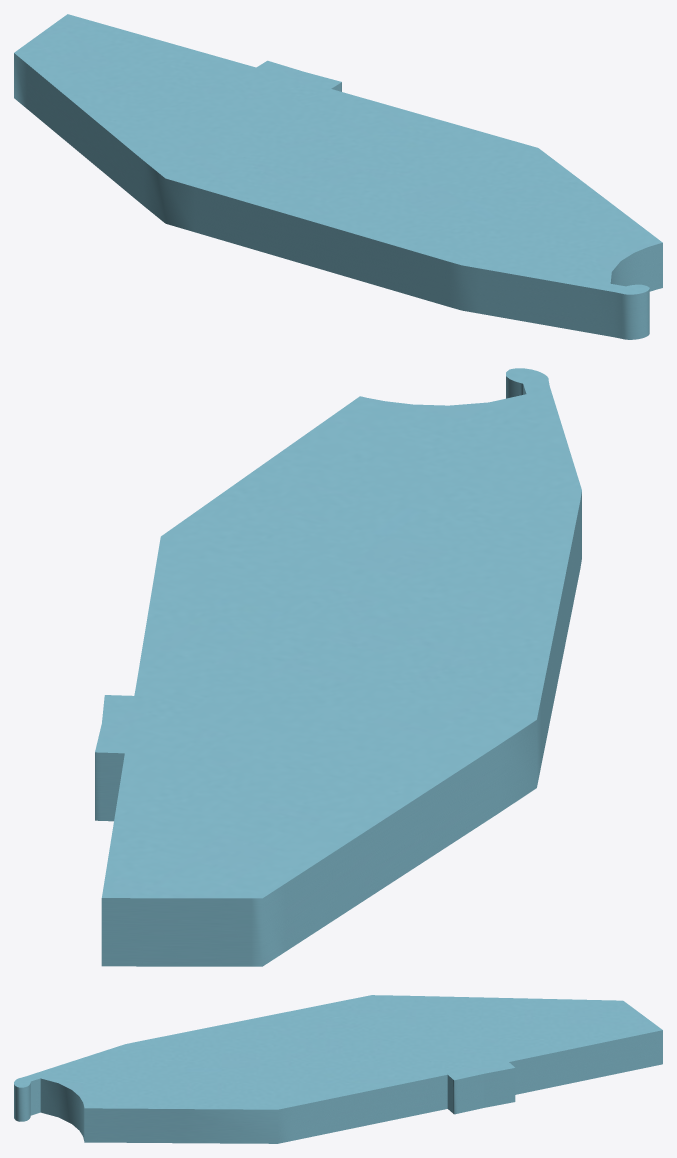
The picture shows the model from 3 angles, top to bottom: view 1: azimuth 30°, elevation 25°; view 2: azimuth 150°, elevation 25°; view 3: azimuth 270°, elevation 25°; orthographic projection. The views are drawn at different scales.
Parts seen in each view (by area): view 1: 挤压; view 2: 挤压; view 3: 挤压.
Part boxes in pixels (bbox=[...]): 挤压: bbox=[14, 14, 662, 339]; 挤压: bbox=[95, 368, 581, 966]; 挤压: bbox=[14, 995, 662, 1143].
Size of the model in its own units: 381 by 53 by 913.
Materials: 1 (1 with a texture image).
